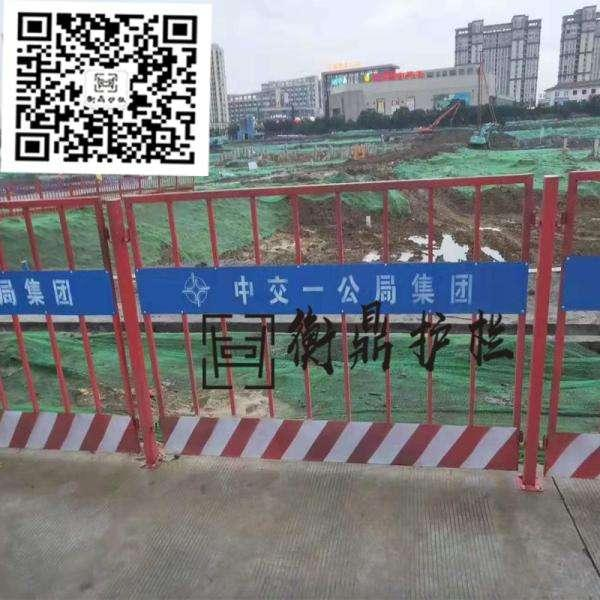sign: (5, 186, 600, 491)
